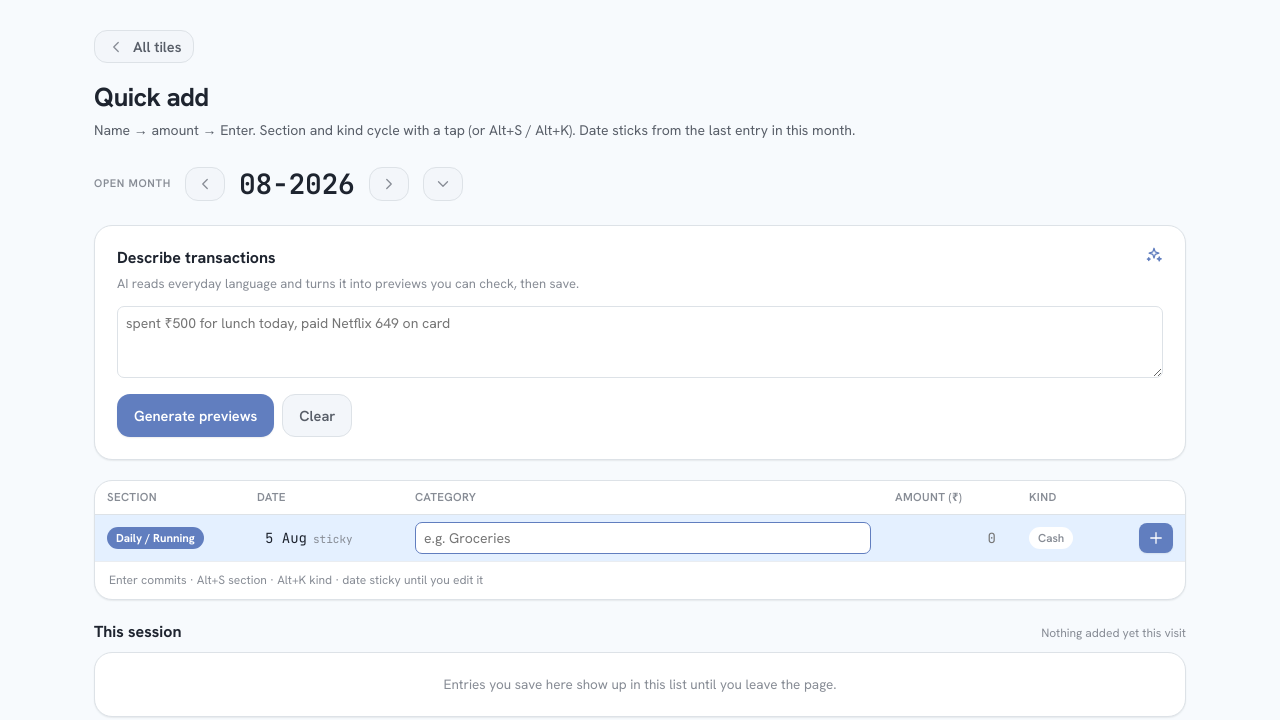
Test: RecordEntryPage › cycles section via chip and forces cash for income
expect the heading "Quick add" is shown: met, box [94,80,208,114]
Click the button with aria-label "Section Daily".
click(155, 538)  # box [107,527,204,549]
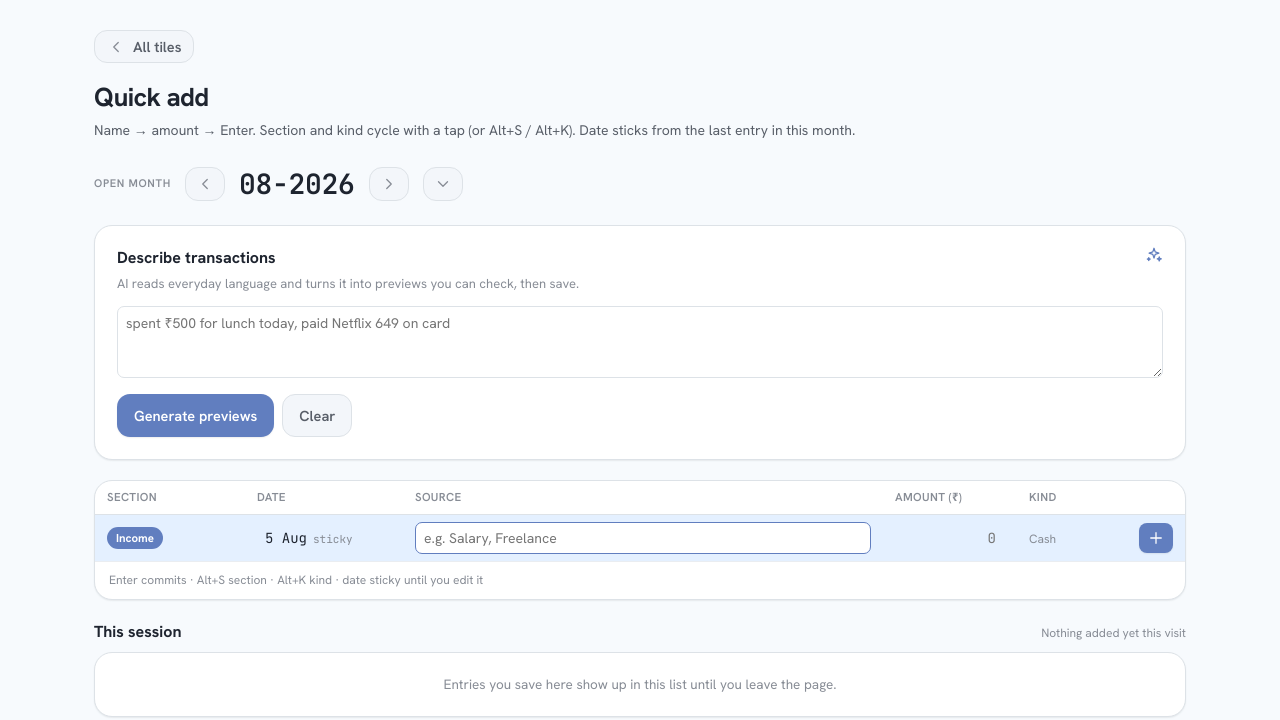
expect the text "Cash" is shown: met, box [1029,531,1056,547]
expect the button with aria-label "Section Income" is shown: met, box [107,527,163,549]
